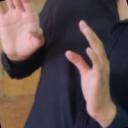hand: (64, 19, 111, 116), (0, 0, 45, 61)
